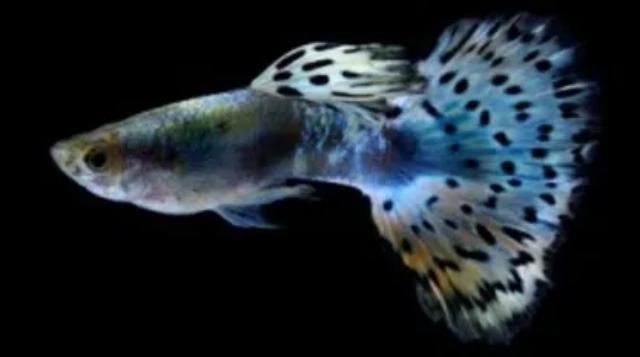Mulut: (31, 121, 93, 189)
Sirip Anal: (254, 166, 326, 206)
Sirip Ekor: (350, 6, 616, 357)
Sirip Perut: (202, 189, 292, 243)
Sirip Punggung: (234, 32, 416, 125)
